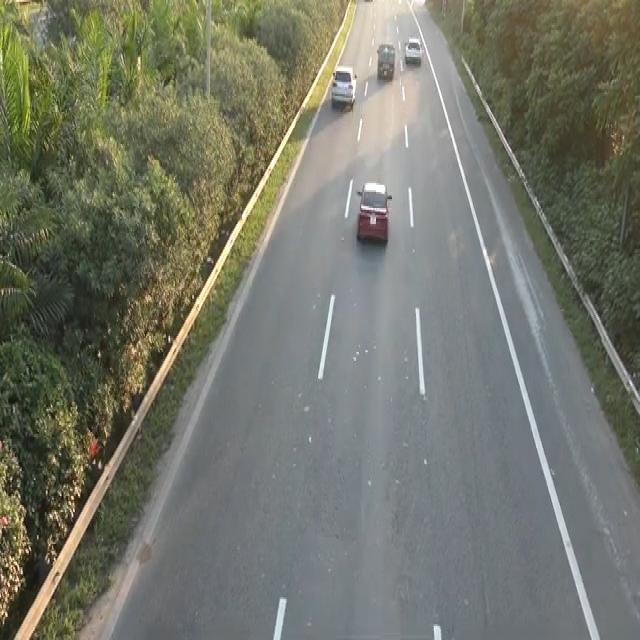bus: (354, 176, 394, 251), (330, 63, 357, 109), (403, 34, 423, 64)
minivan: (375, 39, 395, 80)
